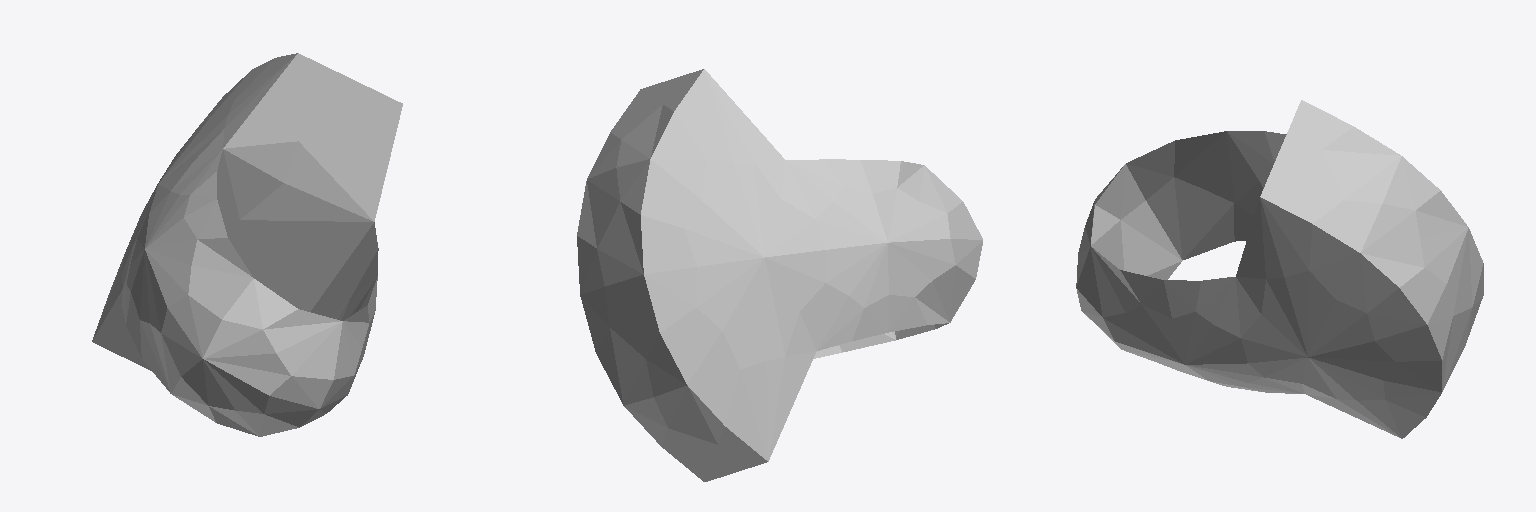
File: base.ico.obj
The picture shows the model from 3 angles: view 1: azimuth 30°, elevation 25°; view 2: azimuth 150°, elevation 25°; view 3: azimuth 270°, elevation 25°; orthographic projection.
Size of the model in its own units: 2.87 by 3.53 by 3.58.